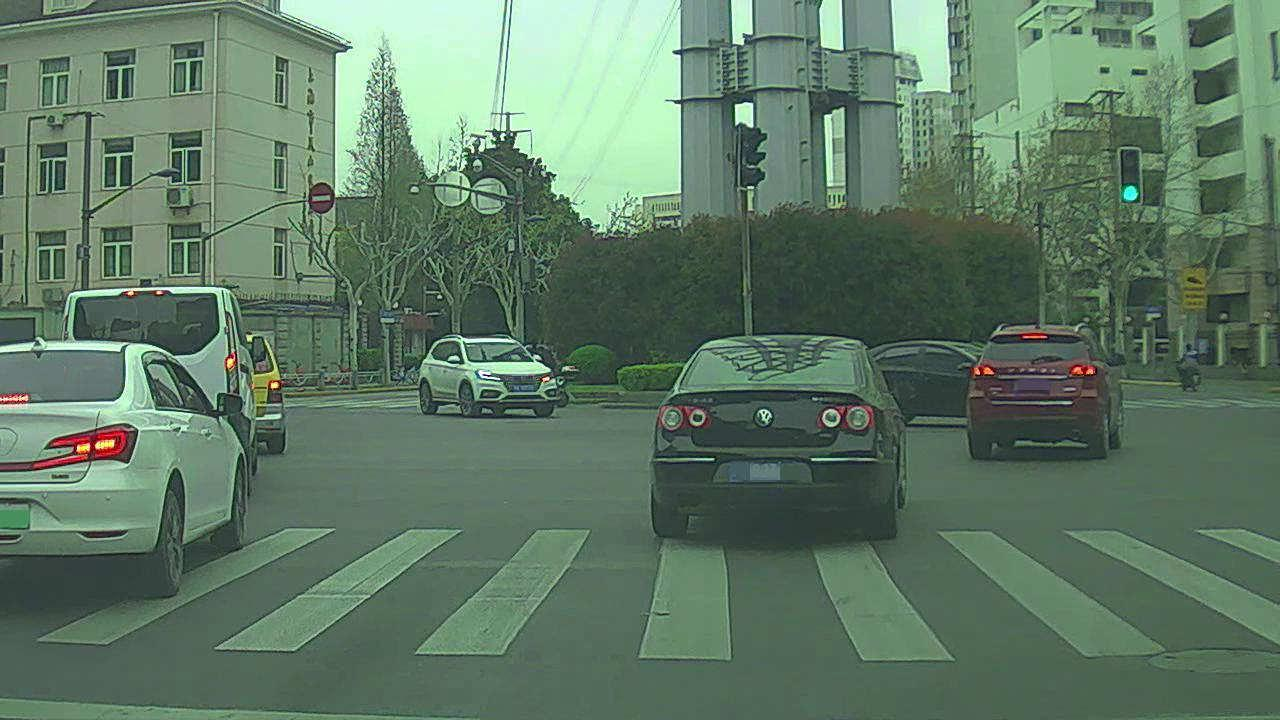traffic_light: (1118, 148, 1145, 211)
